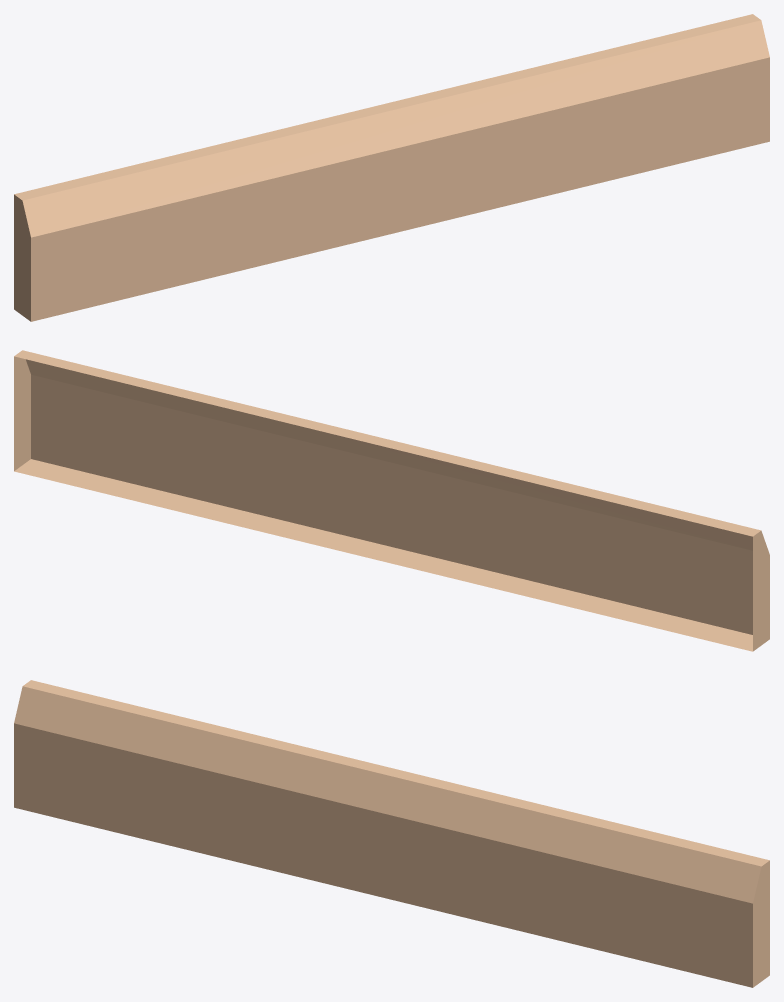
Rendered from Baseboard.fbx.
3 views of the same model, one above another, from view 1: azimuth 30°, elevation 25°; view 2: azimuth 150°, elevation 25°; view 3: azimuth 330°, elevation 25° (orthographic).
Visible parts, largest first — view 1: paneling1; view 2: paneling1; view 3: paneling1.
Part boxes in pixels (left/top/right/bottom): paneling1: left=14, top=14, right=769, bottom=321; paneling1: left=14, top=350, right=769, bottom=651; paneling1: left=14, top=680, right=769, bottom=987.
Bounding box in the file's own units: 500 × 74.43 × 20.
